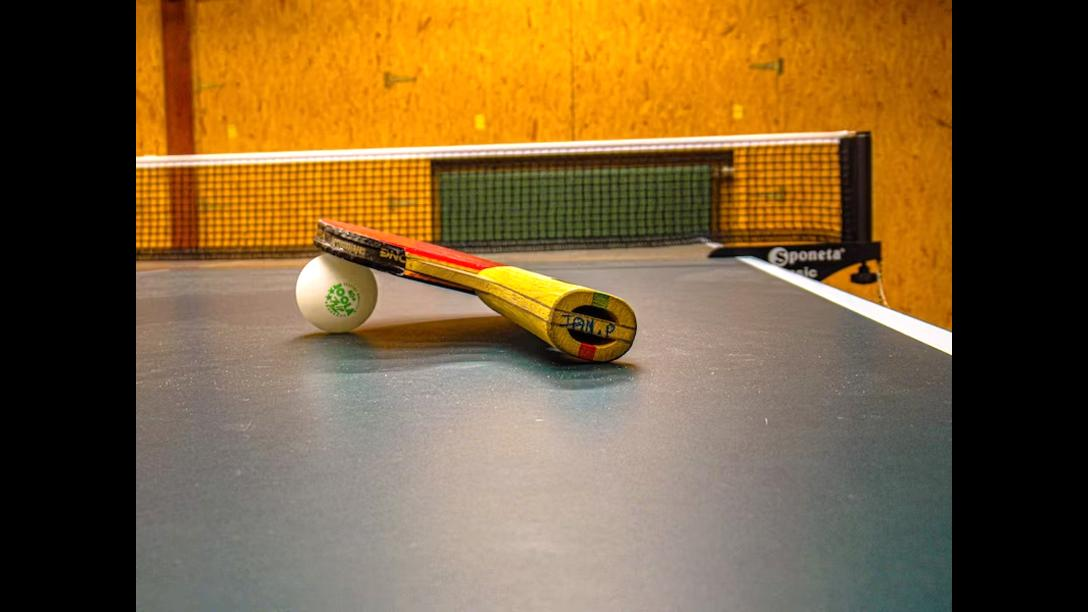Table-Tennis-Ball: (298, 252, 378, 328)
